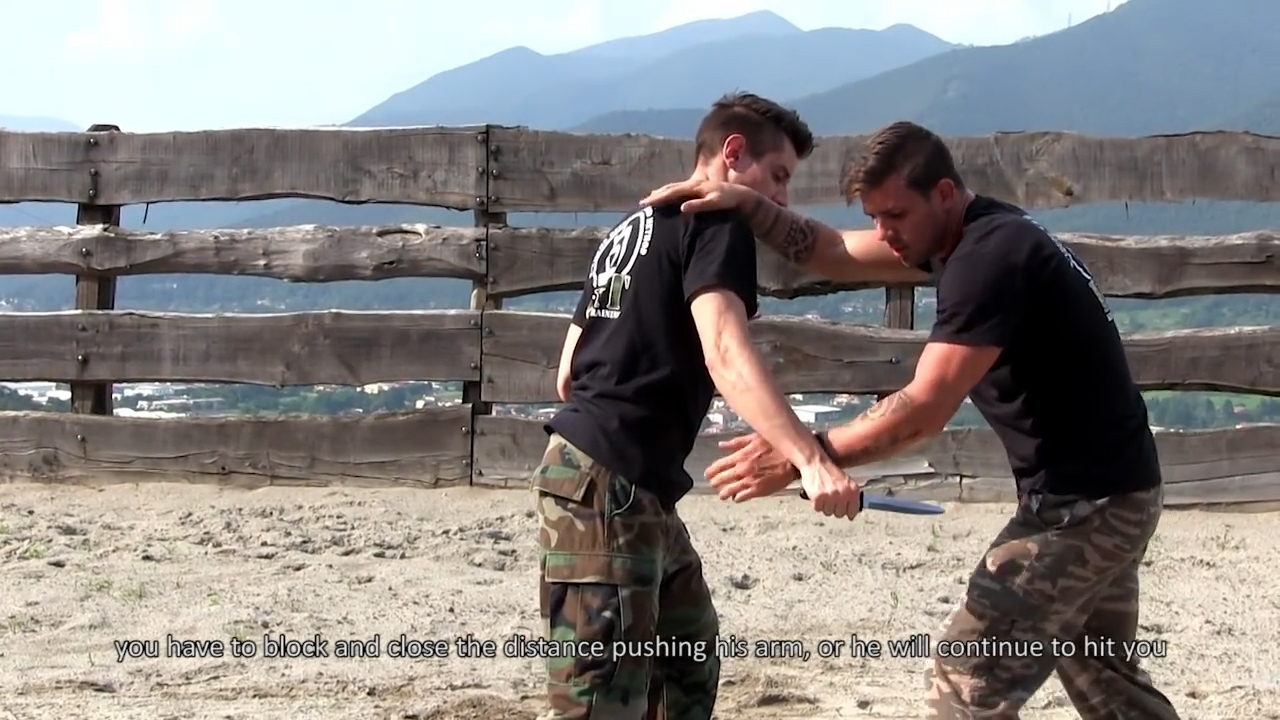knife: (796, 477, 954, 527)
